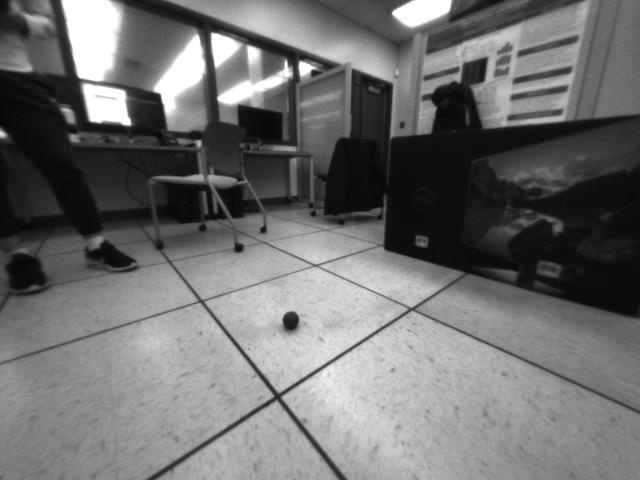dogtoy: (275, 299, 307, 336)
